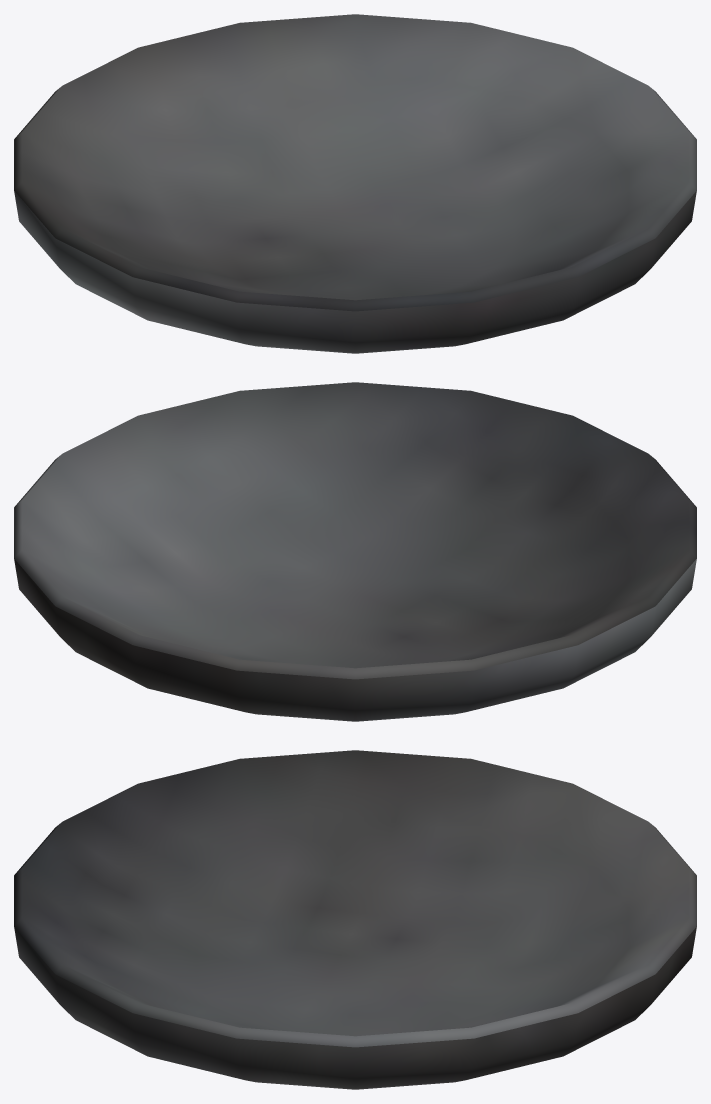
Rendered from Scale Bowl.fbx.
3 renders of one model, top to bottom at view 1: azimuth 30°, elevation 25°; view 2: azimuth 150°, elevation 25°; view 3: azimuth 270°, elevation 25°, orthographic.
Visible parts, largest first — view 1: Puzzle 3 Scale .001; view 2: Puzzle 3 Scale .001; view 3: Puzzle 3 Scale .001.
Part boxes in pixels (left/top/right/bottom): Puzzle 3 Scale .001: left=14, top=14, right=696, bottom=353; Puzzle 3 Scale .001: left=14, top=382, right=696, bottom=721; Puzzle 3 Scale .001: left=14, top=750, right=696, bottom=1089.
Bounding box in the file's own units: 205 × 31.96 × 202.
